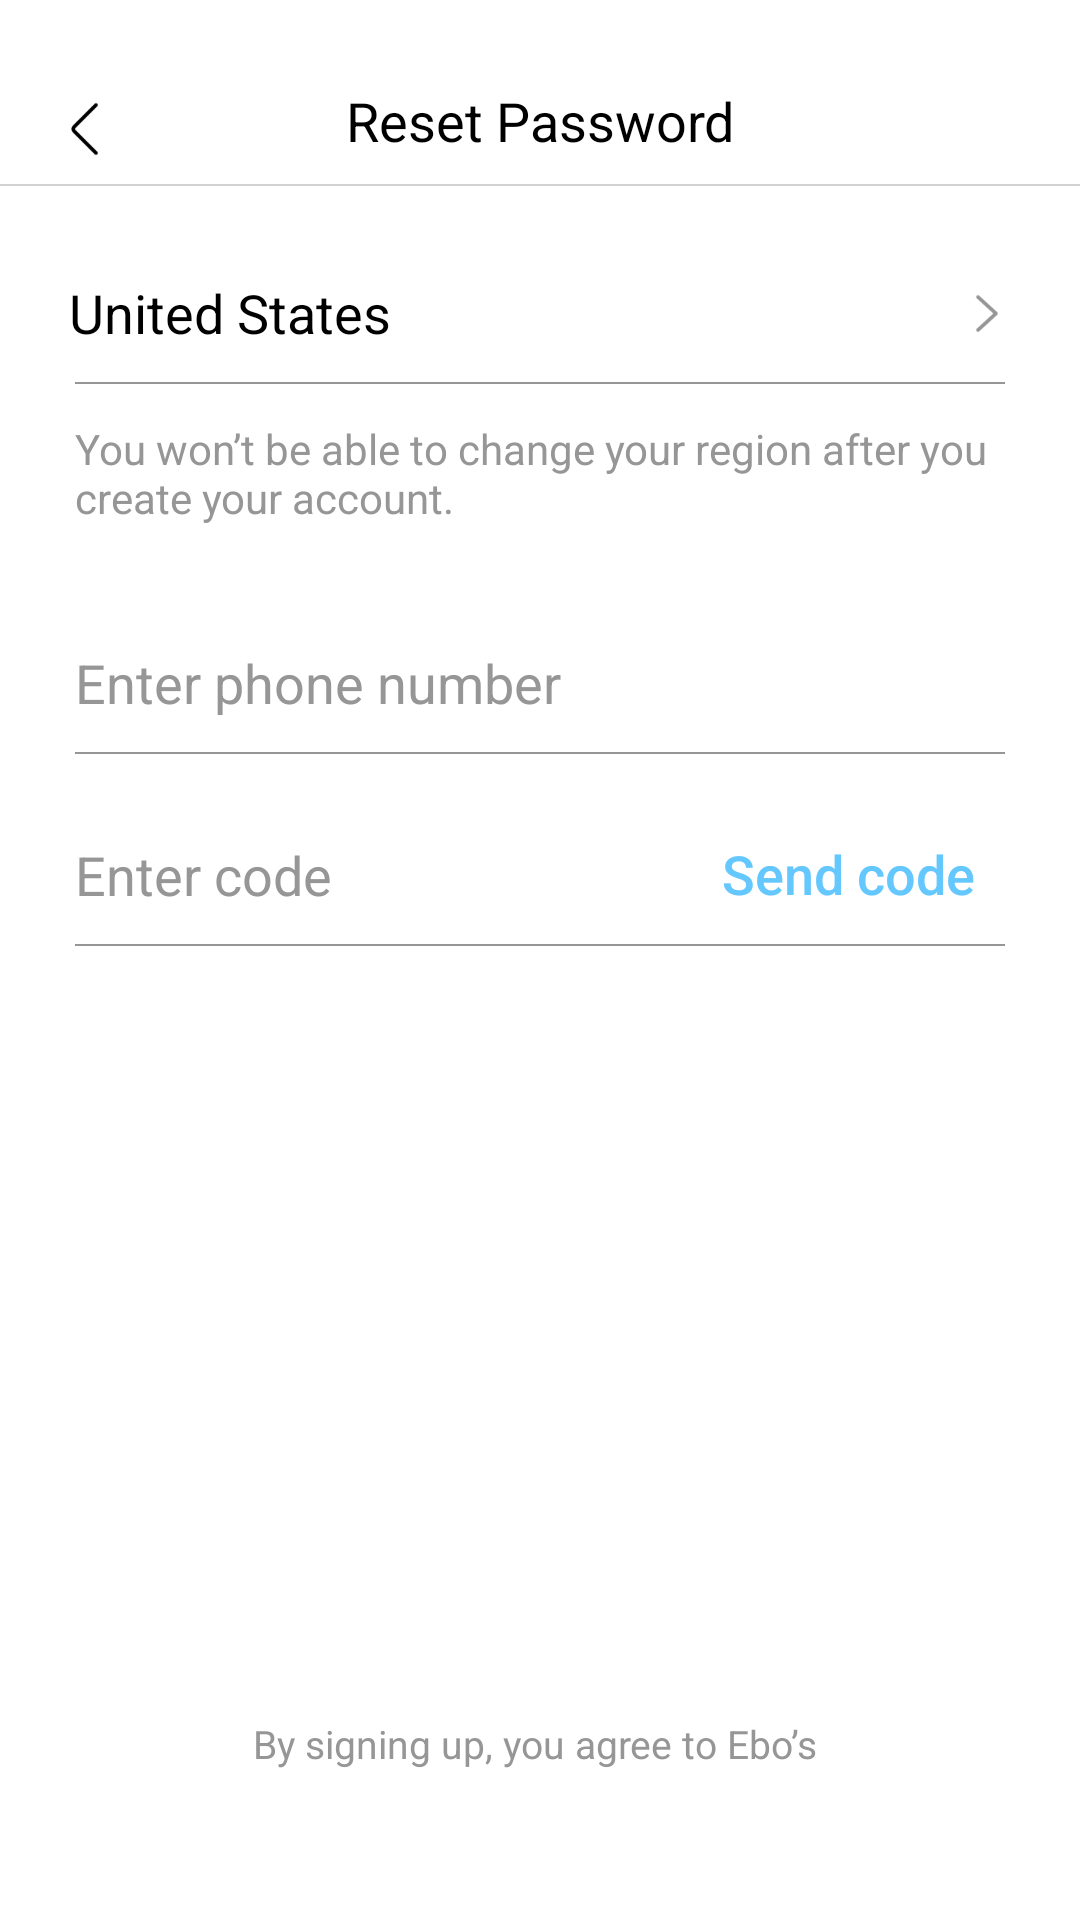

Named icons in this screenshot (1080px x 1920px) and their centers, (x,y):
arrow right: (987,313)
back: (84,129)
